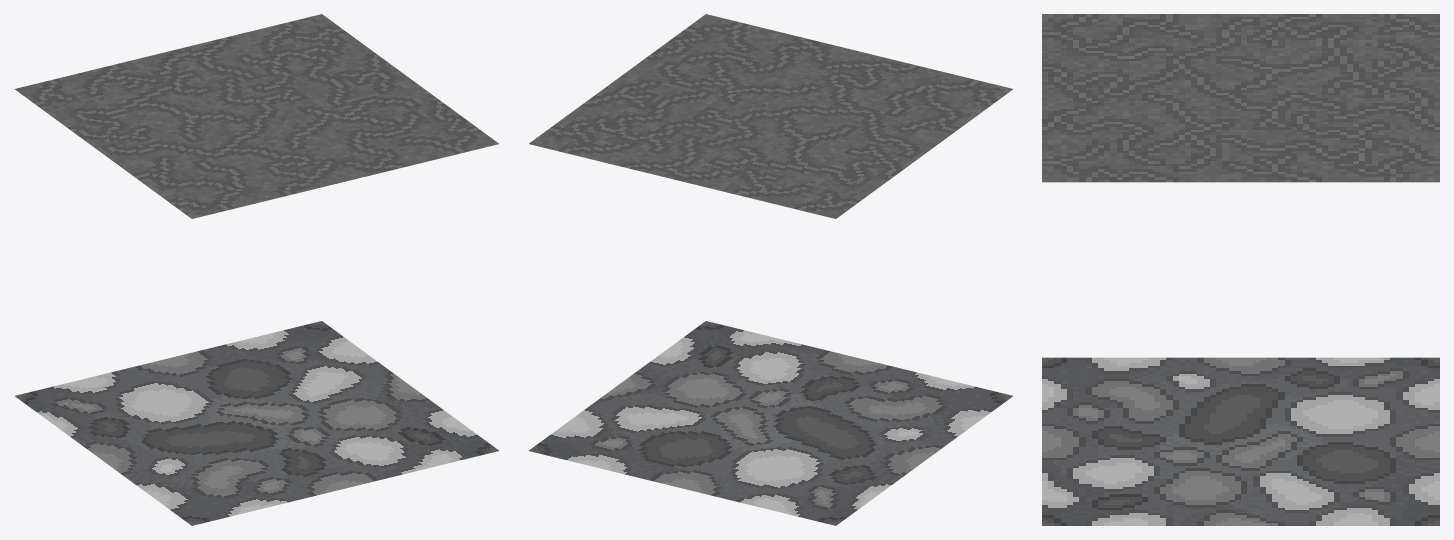
3 renders of one model, left to right at view 1: azimuth 30°, elevation 25°; view 2: azimuth 150°, elevation 25°; view 3: azimuth 270°, elevation 25°, orthographic. The views are drawn at different scales.
Parts seen in each view (by area): view 1: 0W-col; view 2: 0W-col; view 3: 0W-col.
Part boxes in pixels (<box>): 0W-col: <box>14,14,499,525</box>; 0W-col: <box>528,14,1013,525</box>; 0W-col: <box>1042,14,1439,525</box>.
Size of the model in its own units: 2 by 1.91 by 2.
Materials: 2 (2 with a texture image).
